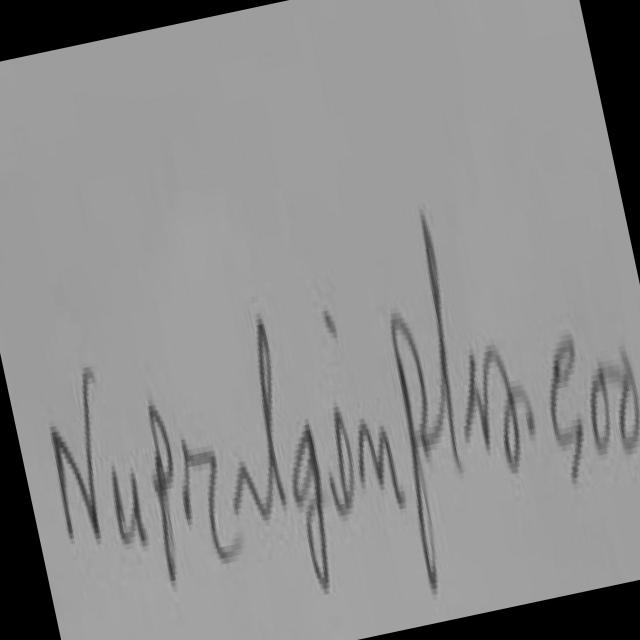0: (593, 308, 640, 494), (570, 332, 624, 465)
5: (525, 318, 606, 498)
N: (14, 332, 132, 615)
a: (215, 414, 276, 550)
g: (278, 409, 352, 608)
i: (303, 318, 371, 536)
l: (396, 187, 482, 482), (220, 262, 308, 537)
n: (338, 355, 417, 520)
p: (367, 279, 472, 601), (124, 383, 203, 593)
r: (171, 419, 247, 585)
s: (468, 306, 546, 486)
u: (445, 326, 501, 472), (100, 436, 160, 568)
